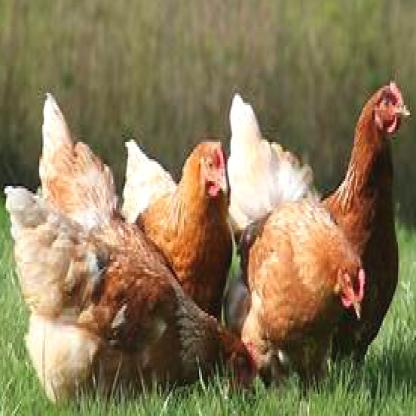chicken: (5, 186, 256, 396), (229, 90, 366, 360), (322, 78, 412, 362), (124, 137, 232, 323)
